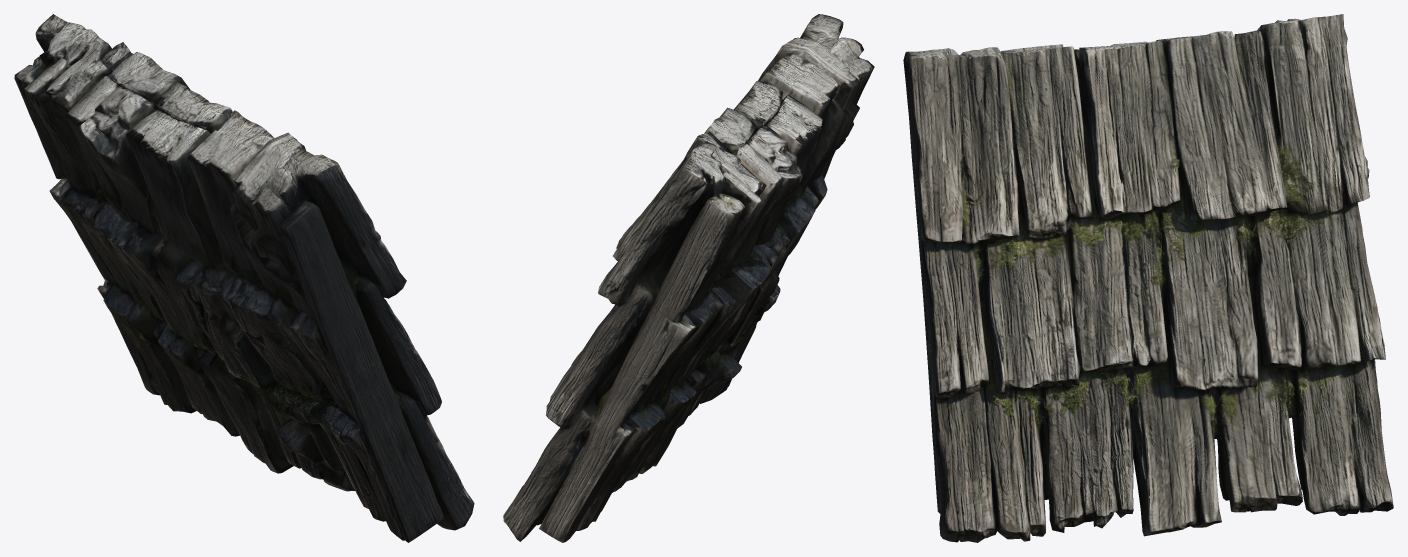
The picture shows the model from 3 angles, left to right: view 1: azimuth 30°, elevation 25°; view 2: azimuth 150°, elevation 25°; view 3: azimuth 270°, elevation 25°; orthographic projection. The views are drawn at different scales.
Parts seen in each view (by area): view 1: tripo_node_ce2689e8-4450-474f-8316-75d99269cb7f; view 2: tripo_node_ce2689e8-4450-474f-8316-75d99269cb7f; view 3: tripo_node_ce2689e8-4450-474f-8316-75d99269cb7f.
Boxes of the visible parts, left/top/right/bottom form: tripo_node_ce2689e8-4450-474f-8316-75d99269cb7f: left=14, top=14, right=474, bottom=542; tripo_node_ce2689e8-4450-474f-8316-75d99269cb7f: left=503, top=14, right=874, bottom=542; tripo_node_ce2689e8-4450-474f-8316-75d99269cb7f: left=903, top=14, right=1393, bottom=542.
Size of the model in its own units: 0.6516 by 0.9461 by 0.9797.
Materials: 1 (1 with a texture image).
